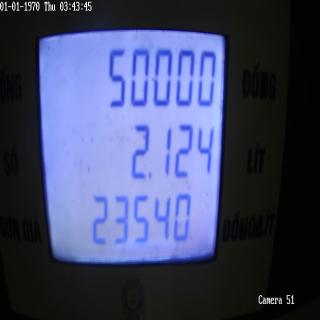screen: (32, 5, 232, 293)
